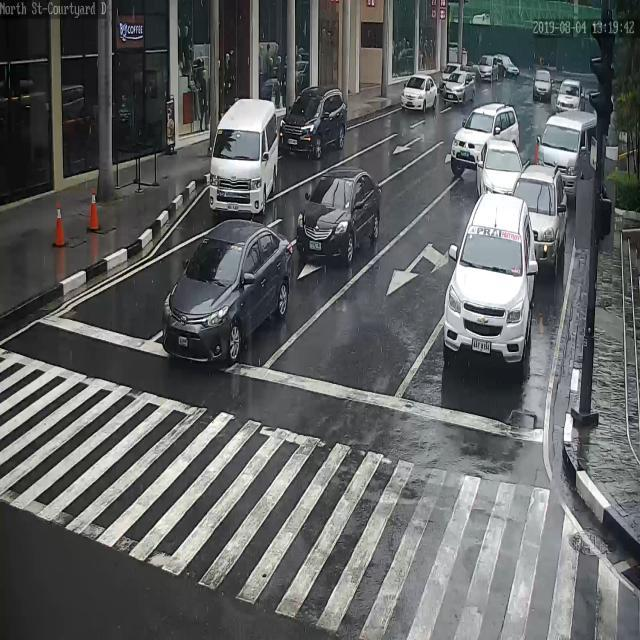car: (162, 224, 293, 365), (443, 192, 536, 371), (297, 169, 379, 261), (514, 166, 568, 277), (451, 102, 518, 176), (279, 84, 346, 156), (477, 139, 523, 197), (401, 74, 437, 112), (443, 70, 476, 102), (556, 79, 585, 113), (439, 63, 464, 93), (494, 54, 519, 79), (533, 69, 551, 101), (478, 55, 498, 83)
van: (209, 99, 279, 219), (536, 113, 599, 199)
